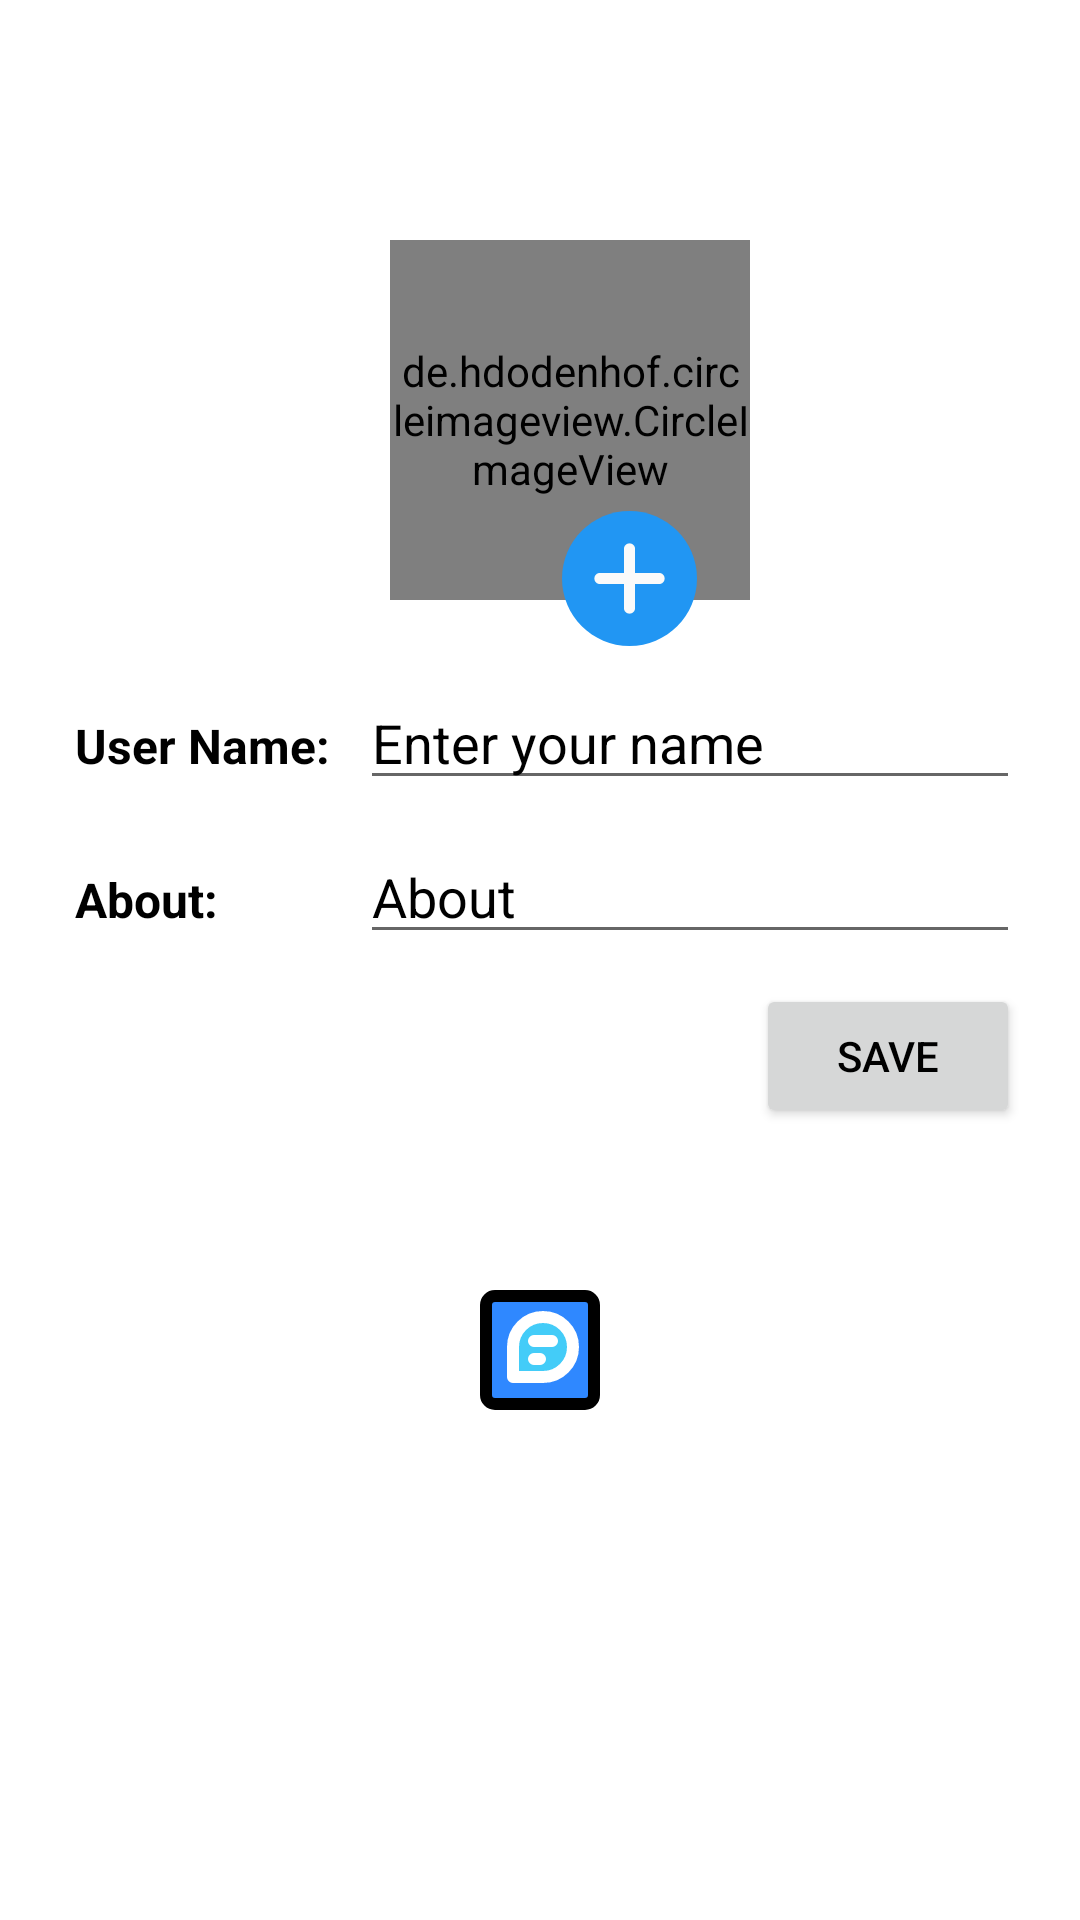

Named icons in this screenshot (1080px×1920px) and their centers, (x=x, y=y):
plus: (x=629, y=578)
